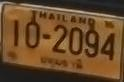letters: (101, 32, 116, 62), (52, 24, 67, 53), (25, 21, 40, 49), (84, 30, 99, 57), (69, 27, 83, 55), (12, 18, 19, 47)
province: (40, 55, 84, 69)
